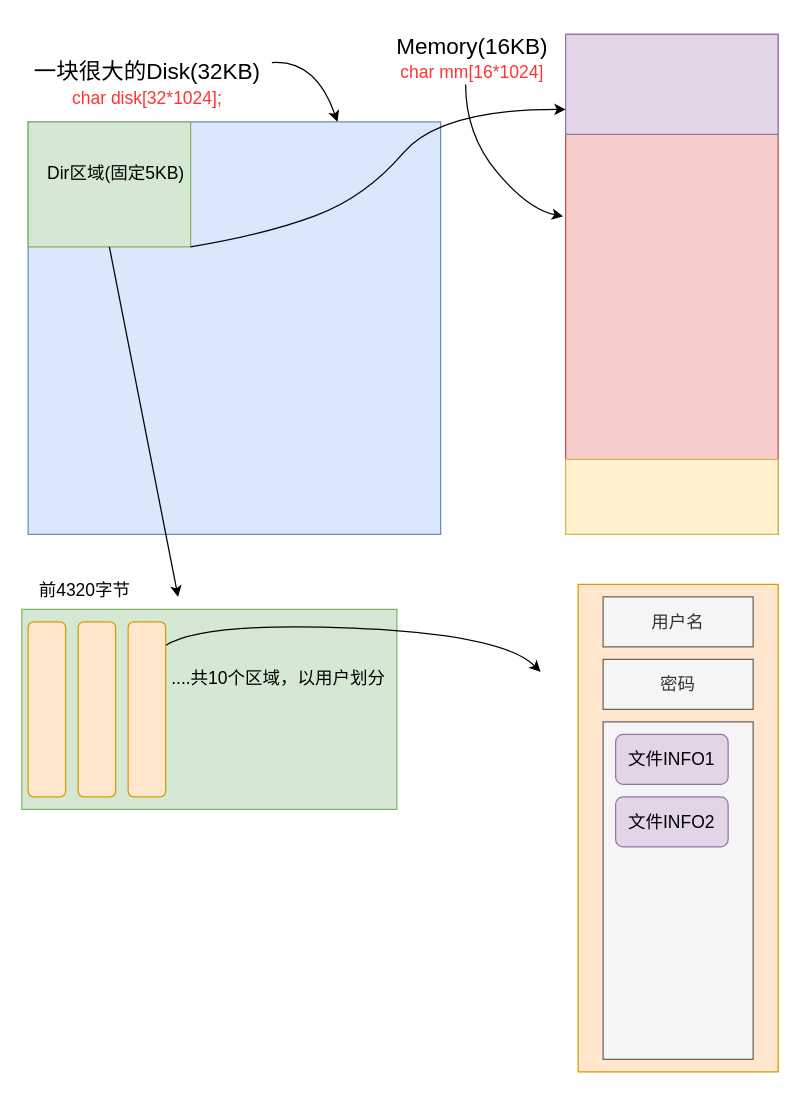
This 806x1094 diagram has some shape labels left out. Here are the shapes that lost their labels. From the top down, the box of each, then its label:
(564, 33, 778, 134): 加载到内存中的Dir(5KB)
(564, 458, 778, 534): Kernel区域(1KB)
(602, 721, 753, 1059): 共10个文件INFO
